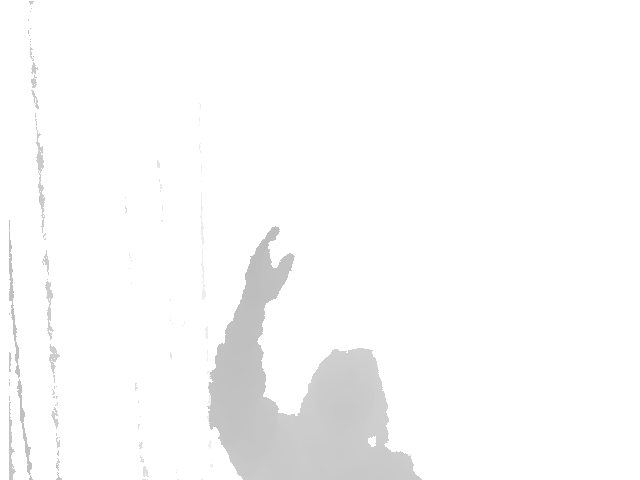hand: (240, 225, 296, 308)
head: (298, 343, 392, 450)
person: (208, 225, 422, 480)
